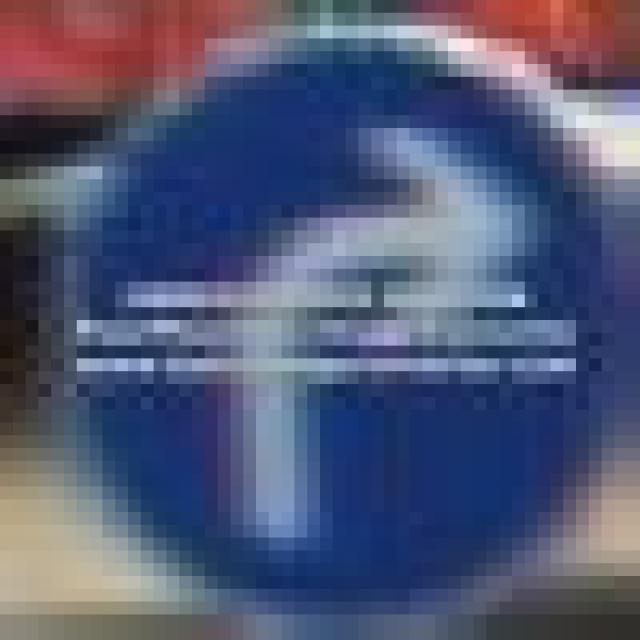TURN_RIGHT: (38, 26, 628, 614)
